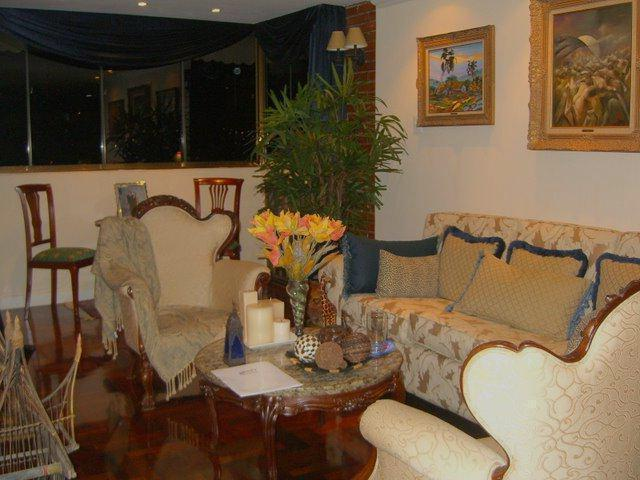Matera: (261, 95, 379, 304)
